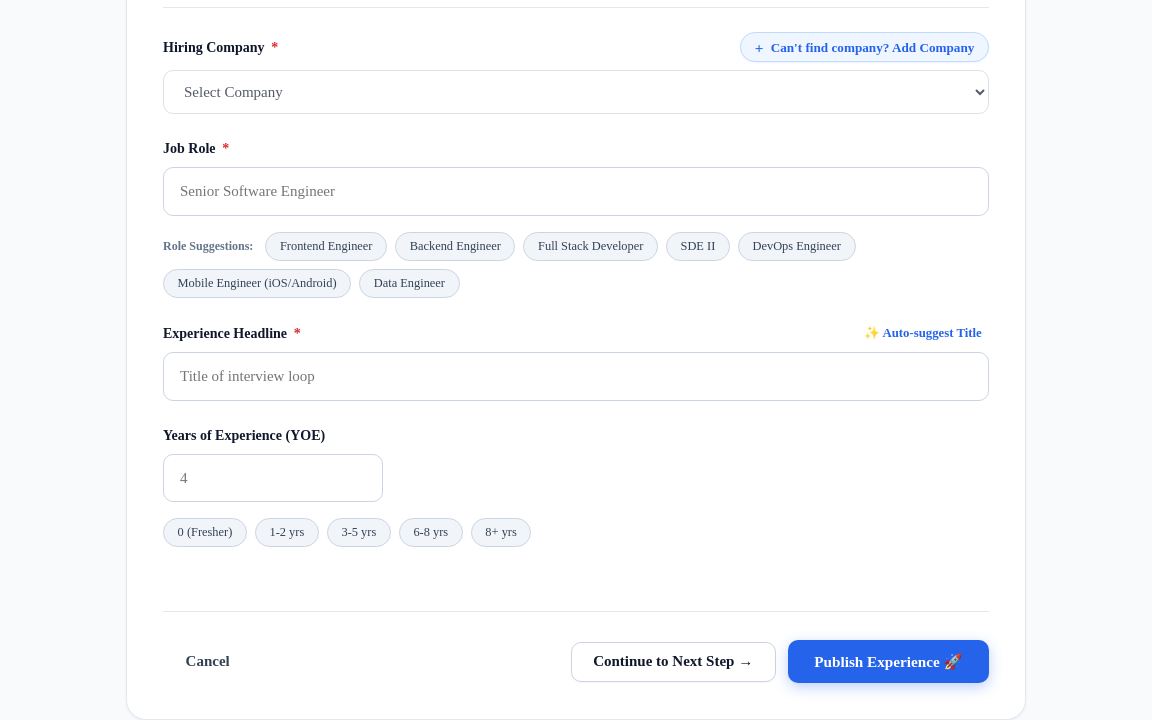
it: EXPERIENCES: Listing, Details, Create, Edit & Delete › Create Experience Form › validates required fields on submission
(page scrolled)
Step 1. Click the button "Publish Experience 🚀" → click(888, 662), box 788,640 -> 989,683
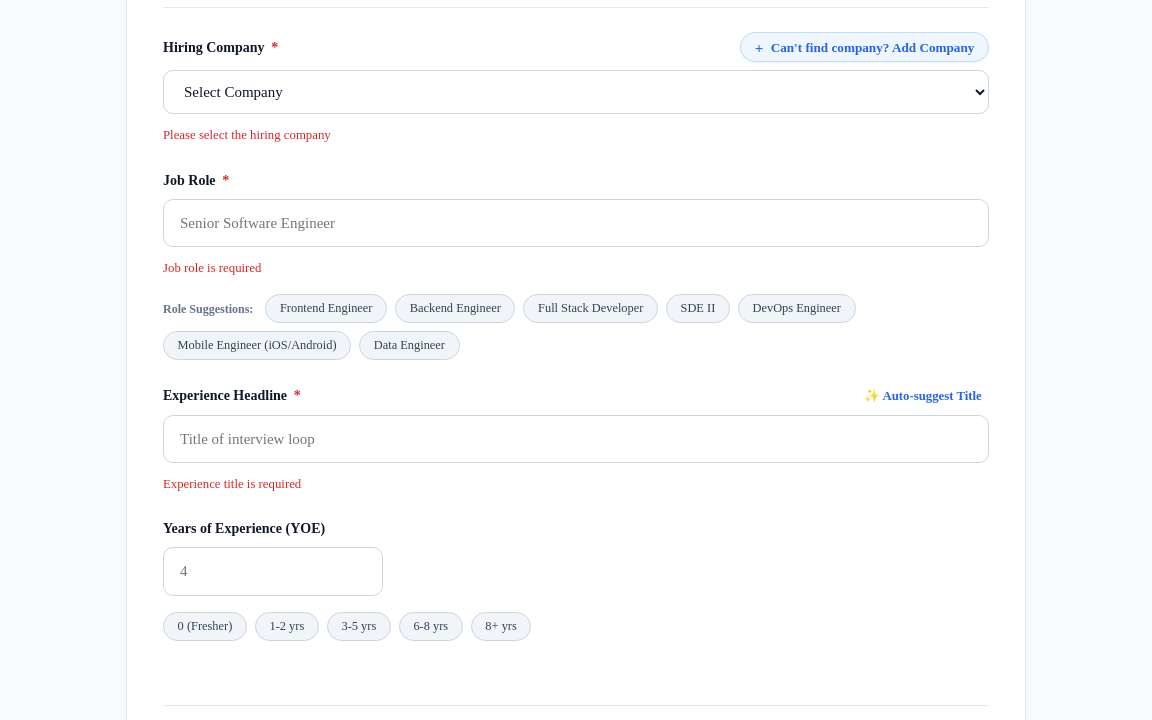
Expected: the text "Please select the hiring company" is shown, 163,128 -> 331,142
Expected: the text "Job role is required" is shown, 163,261 -> 262,275
Expected: the text "Experience title is required" is shown, 163,477 -> 301,491
